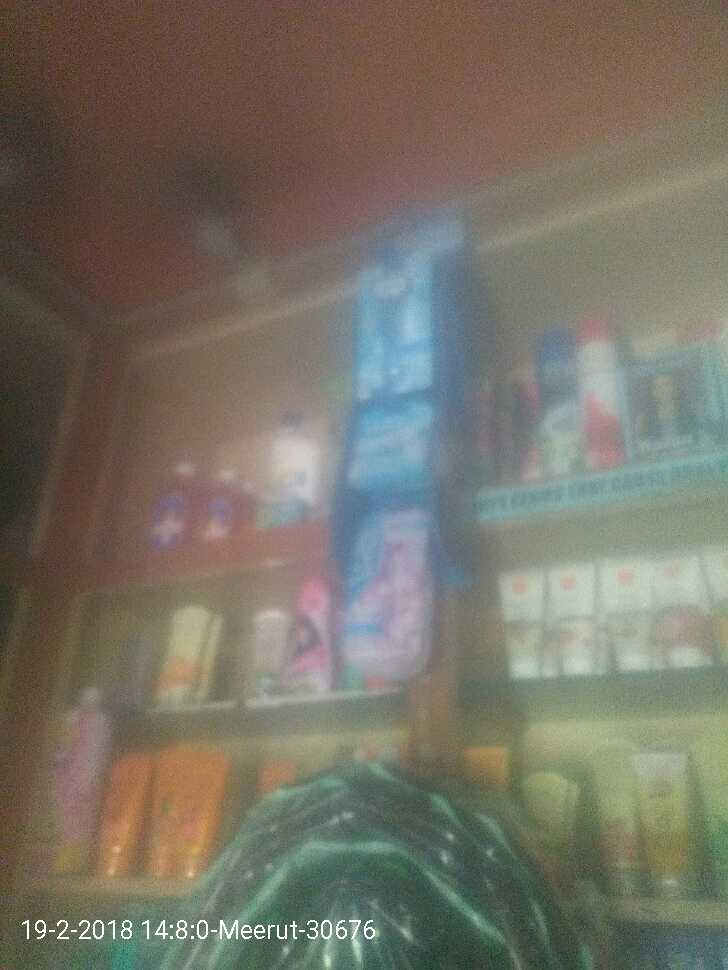venus: (338, 504, 436, 685), (361, 243, 432, 382), (349, 403, 427, 493)
